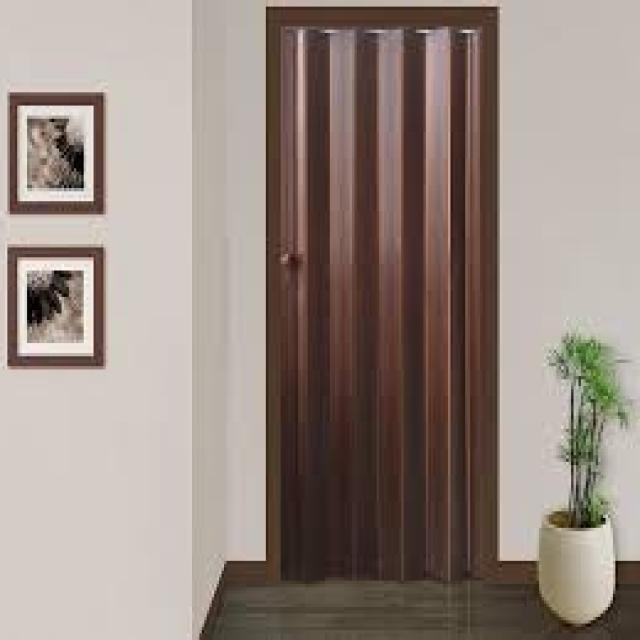door: (264, 7, 498, 584)
